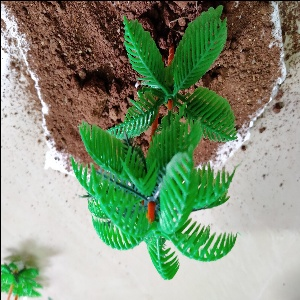plant: (81, 10, 243, 278)
